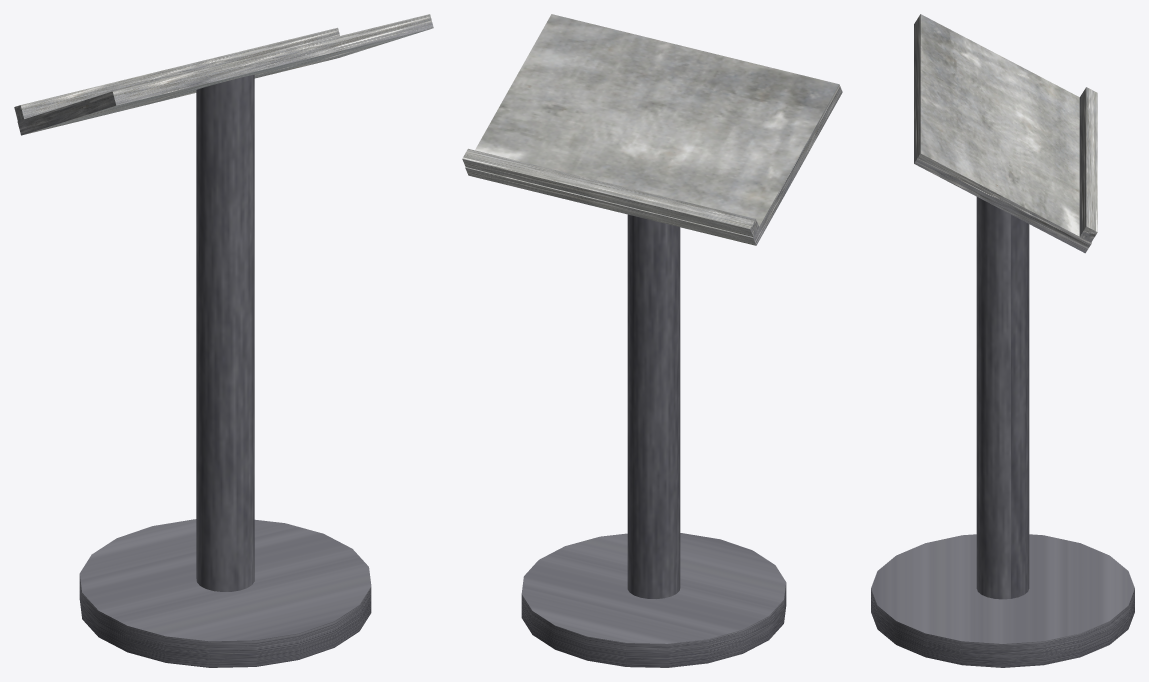
The model's file is atril.obj.
3 views of the same model, side by side, from view 1: azimuth 30°, elevation 25°; view 2: azimuth 150°, elevation 25°; view 3: azimuth 270°, elevation 25° (orthographic). The views are drawn at different scales.
Parts seen in each view (by area): view 1: pCylinder3; view 2: pCylinder3; view 3: pCylinder3.
Part boxes in pixels (x1,y1,x2,y2): pCylinder3: (14,14,433,667); pCylinder3: (462,14,842,667); pCylinder3: (871,14,1134,667).
Bounding box in the file's own units: 1.25 × 2.21 × 1.
